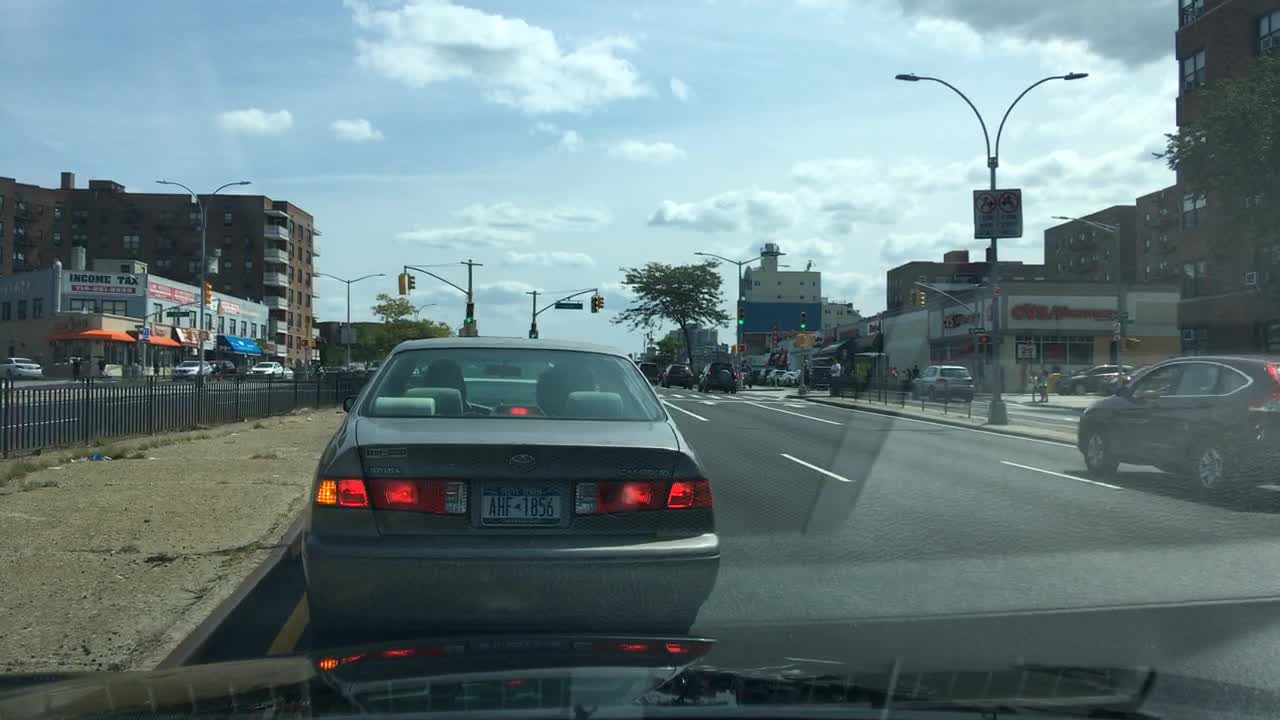car: (303, 333, 720, 632), (1075, 356, 1279, 493), (1055, 367, 1137, 399), (908, 362, 974, 401), (0, 353, 45, 382), (697, 362, 738, 392), (667, 362, 695, 389), (251, 356, 283, 378), (172, 360, 210, 378), (638, 360, 661, 383), (208, 360, 232, 376), (783, 369, 801, 389), (756, 364, 772, 385), (770, 369, 786, 387), (740, 369, 758, 383), (282, 365, 300, 378)
person: (829, 353, 844, 398), (1024, 368, 1039, 408), (1036, 369, 1049, 405), (69, 354, 82, 380), (908, 361, 921, 380), (901, 366, 909, 395), (96, 353, 106, 373), (150, 358, 160, 376)
traffic light: (201, 283, 210, 312), (588, 292, 600, 310), (797, 314, 808, 333), (468, 297, 475, 324), (735, 305, 743, 328), (917, 289, 926, 308), (530, 322, 539, 337), (407, 274, 414, 290)
traffic sign: (973, 190, 1019, 238), (1016, 340, 1041, 360), (550, 297, 584, 310), (965, 328, 983, 339)
